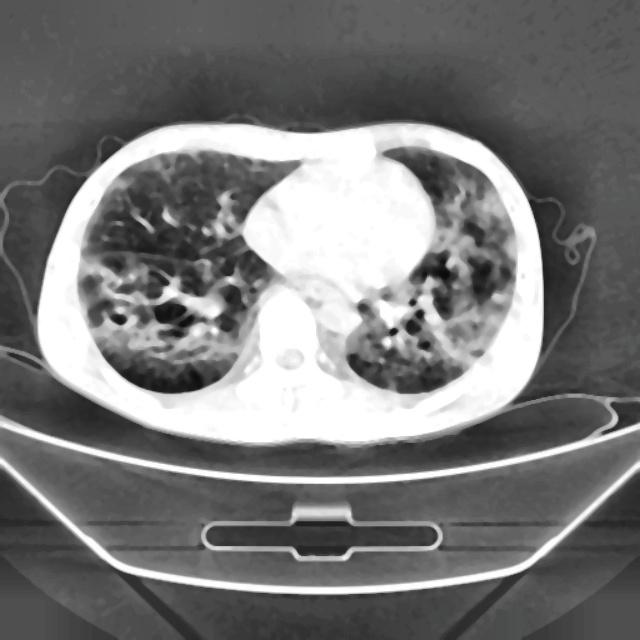covid: (36, 118, 546, 445)
